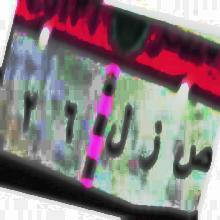2: (19, 84, 38, 134)
6: (63, 94, 78, 148)
laam: (106, 94, 132, 164)
saad: (172, 134, 213, 184)
zay: (139, 114, 162, 171)
